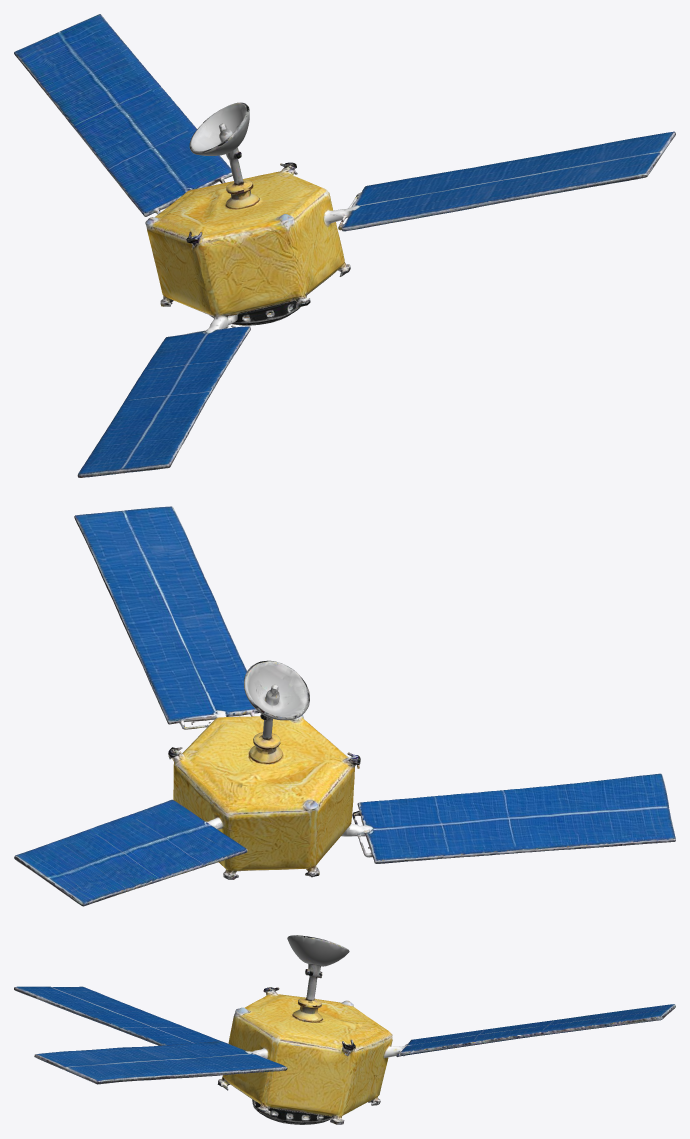
Rendered from wing_probe.glb.
The picture shows the model from 3 angles, top to bottom: view 1: azimuth 30°, elevation 25°; view 2: azimuth 150°, elevation 25°; view 3: azimuth 270°, elevation 25°; orthographic projection. The views are drawn at different scales.
Visible parts, largest first — view 1: mesh; view 2: mesh; view 3: mesh.
Boxes of the visible parts, x1=… form: mesh: x1=14, y1=14, x2=675, y2=477; mesh: x1=14, y1=506, x2=675, y2=906; mesh: x1=14, y1=935, x2=675, y2=1124.
Size of the model in its own units: 0.2812 by 0.0908 by 0.3.
1 material, 1 textured.
